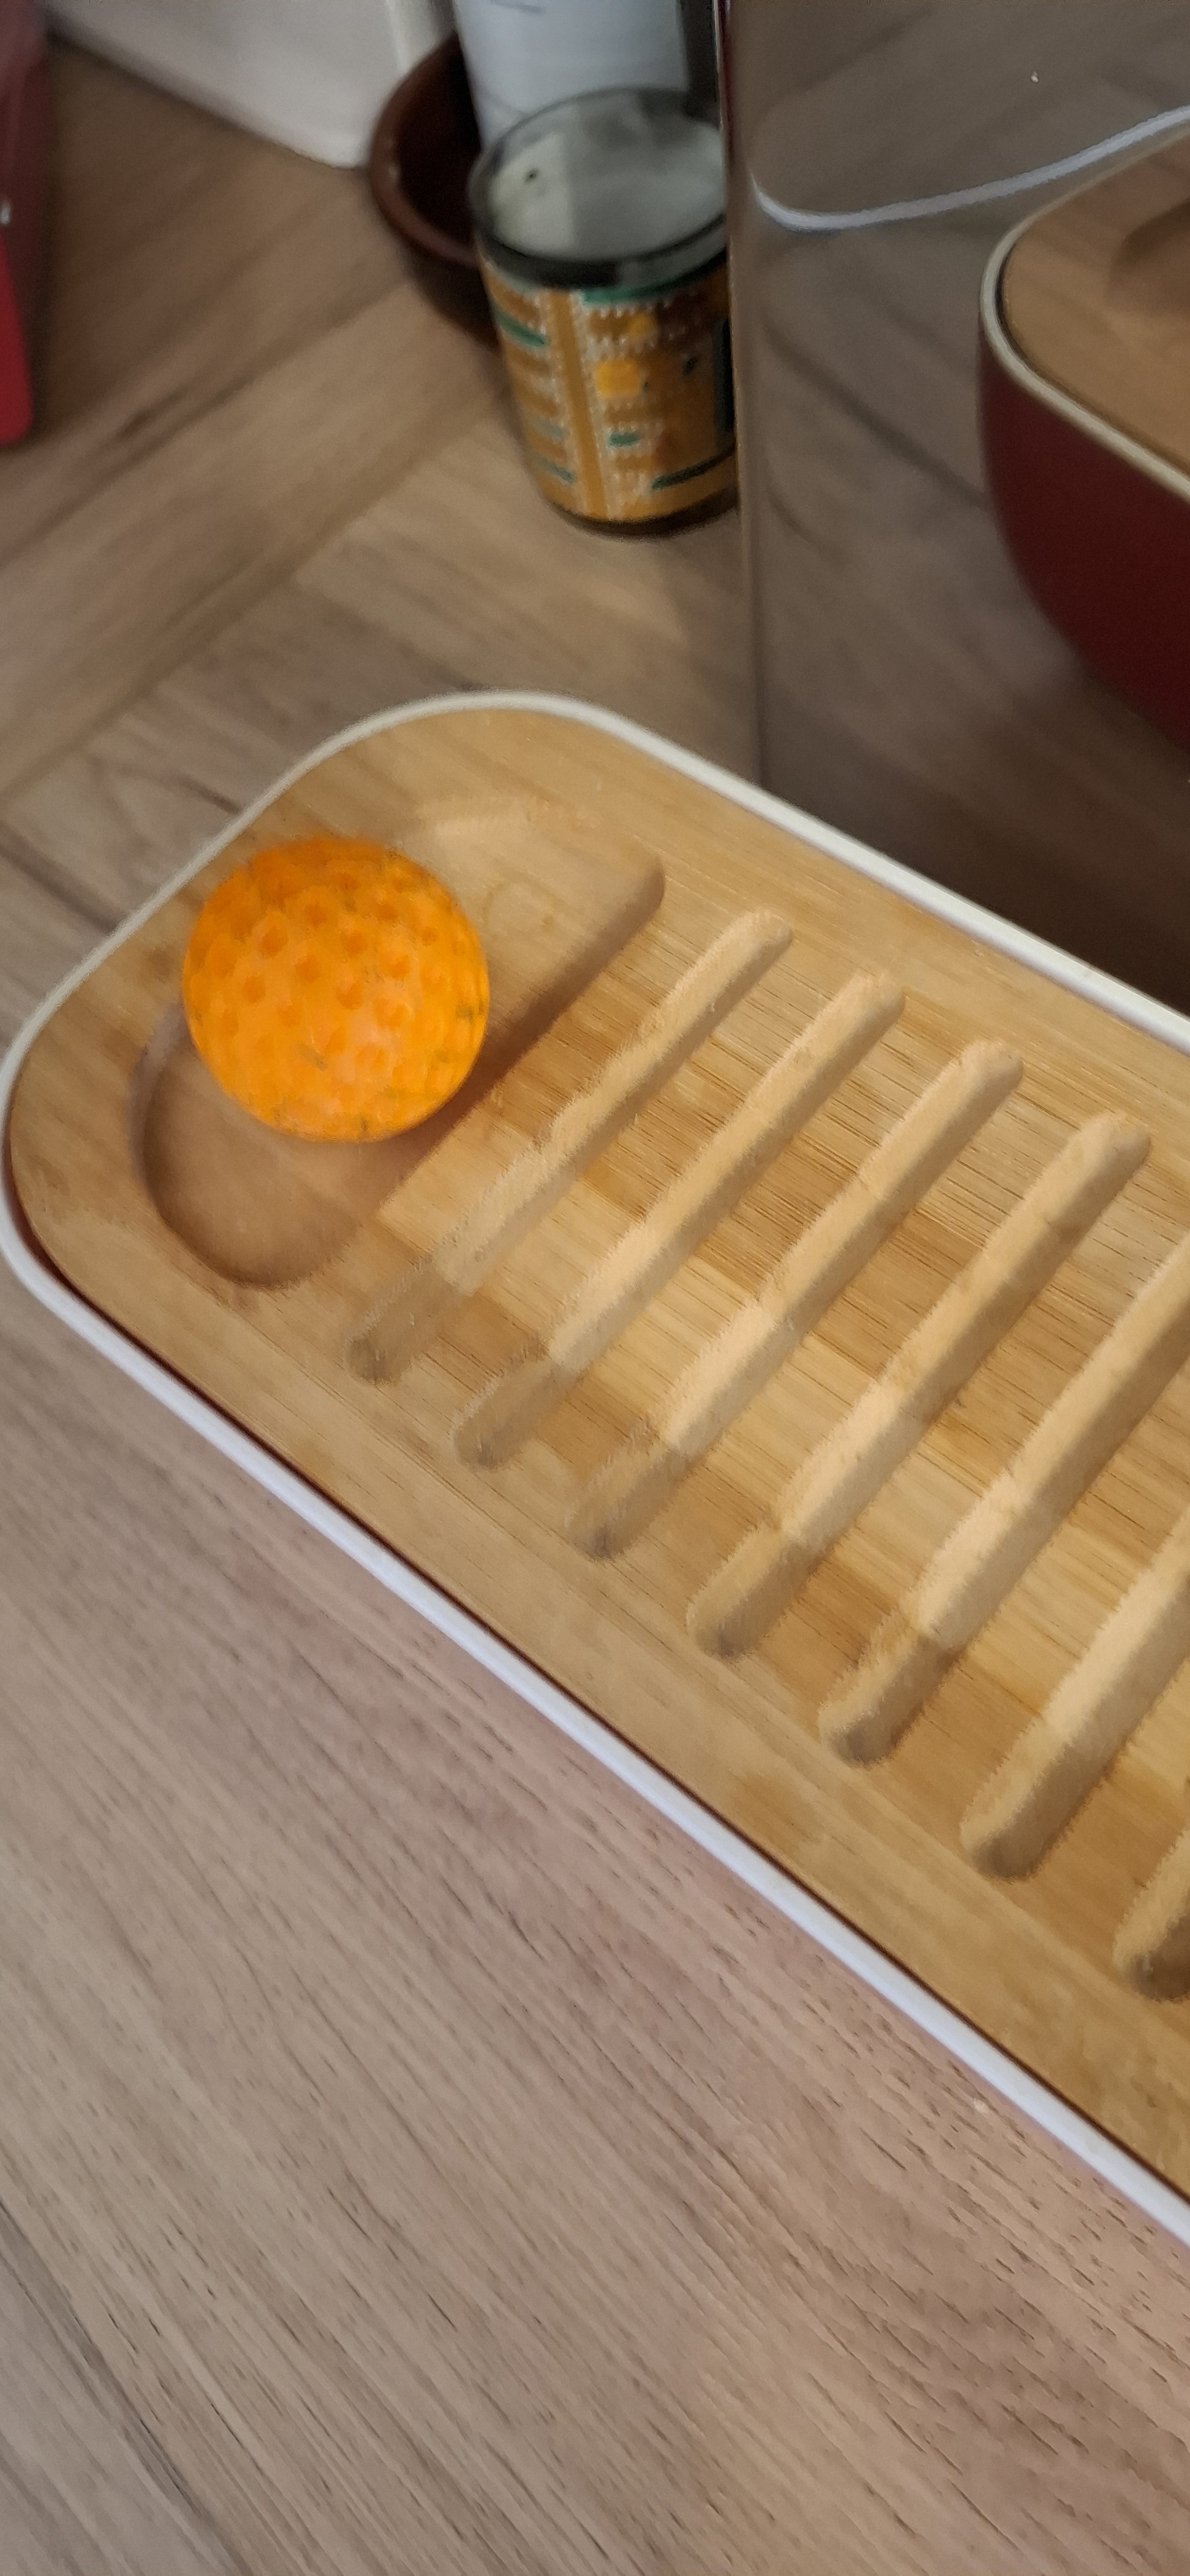ball: (390, 1513, 529, 2178)
